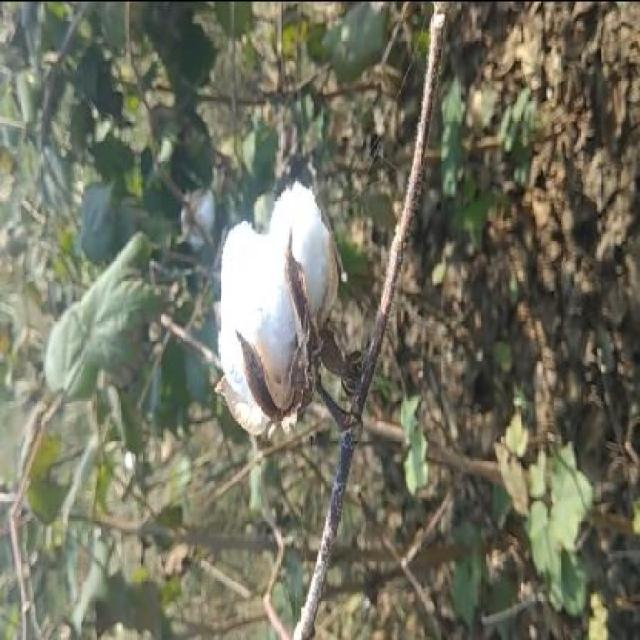cotton_ready: (211, 162, 380, 476)
